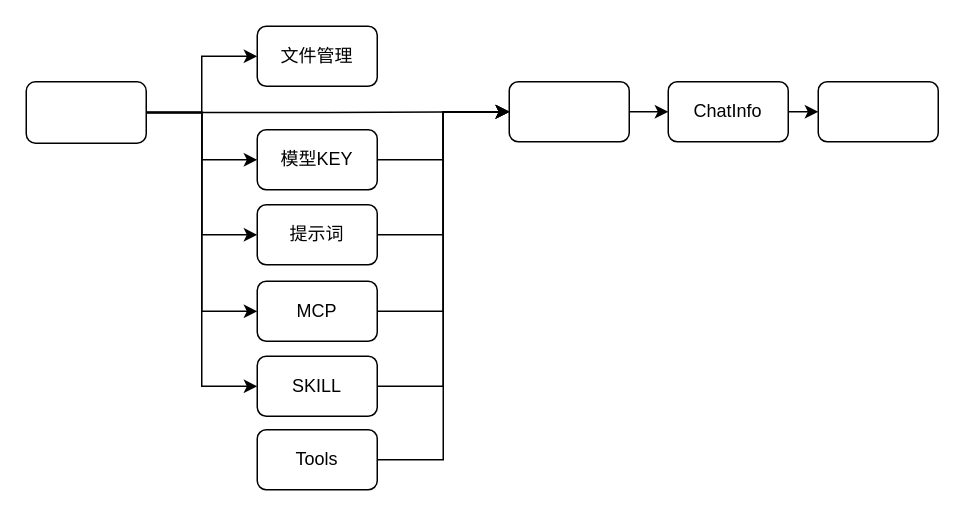
Image size: 965x516. Some labels were removed from this diagram. The centre of each missing label's shape, as x and y in pixels:
Message: [877,111]
Role: [568,111]
用户信息: [85,111]
